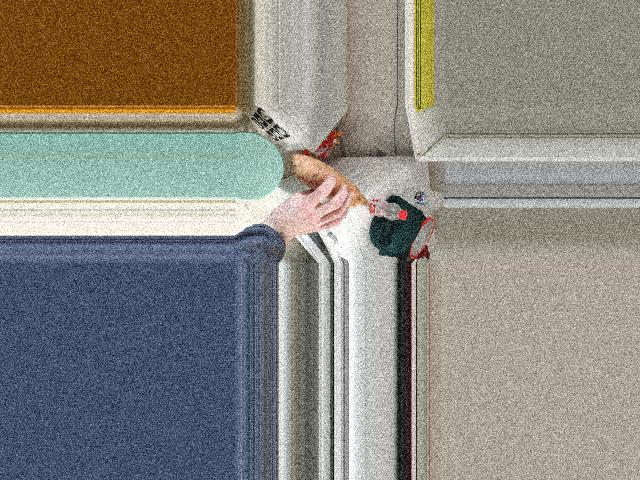sweet_potato: (303, 155, 365, 216)
